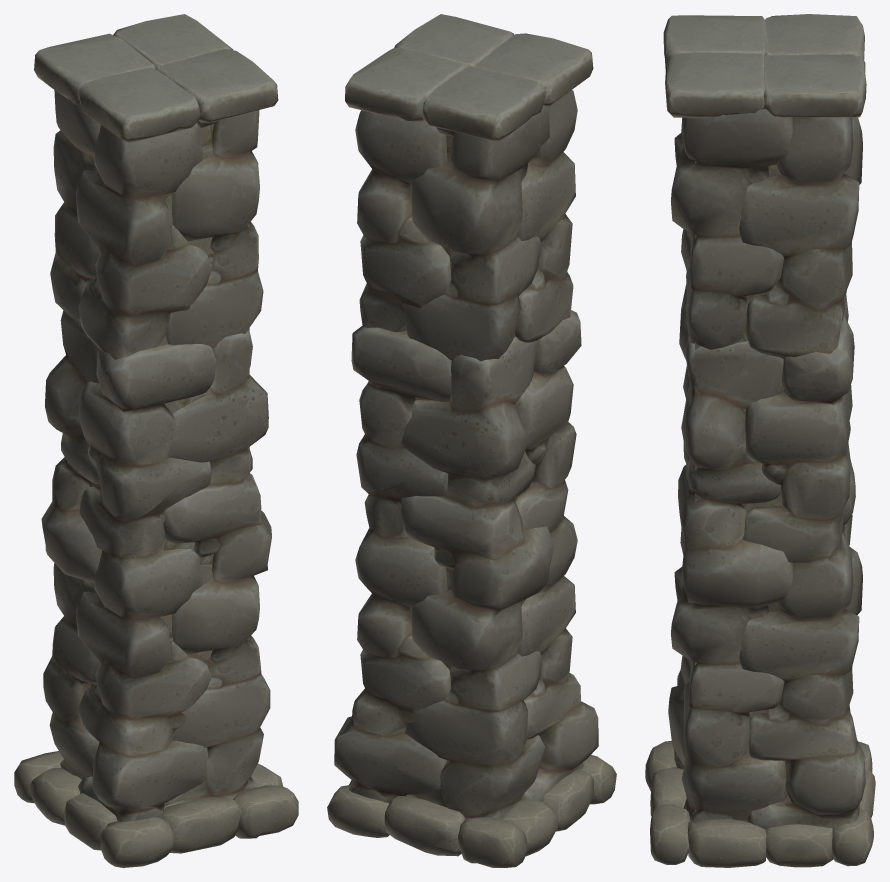
File: SM_FW01_Ruins_Int_Pillar_C_1x6_01.fbx
3 renders of one model, left to right at view 1: azimuth 30°, elevation 25°; view 2: azimuth 150°, elevation 25°; view 3: azimuth 270°, elevation 25°, orthographic. The views are drawn at different scales.
Visible parts, largest first — view 1: SM_FW01_Ruins_Int_Pillar_C_1x6_01_LOD0, SM_FW01_Ruins_Int_Pillar_C_1x6_01; view 2: SM_FW01_Ruins_Int_Pillar_C_1x6_01_LOD0; view 3: SM_FW01_Ruins_Int_Pillar_C_1x6_01_LOD0, SM_FW01_Ruins_Int_Pillar_C_1x6_01.
Boxes of the visible parts, <box> form: SM_FW01_Ruins_Int_Pillar_C_1x6_01_LOD0: <box>14,14,298,867</box>; SM_FW01_Ruins_Int_Pillar_C_1x6_01: <box>88,123,249,806</box>; SM_FW01_Ruins_Int_Pillar_C_1x6_01_LOD0: <box>327,14,616,867</box>; SM_FW01_Ruins_Int_Pillar_C_1x6_01_LOD0: <box>645,14,875,867</box>; SM_FW01_Ruins_Int_Pillar_C_1x6_01: <box>695,161,789,811</box>.
Size of what is drawn, in the model's own units: 1.69 by 6.18 by 1.67.
